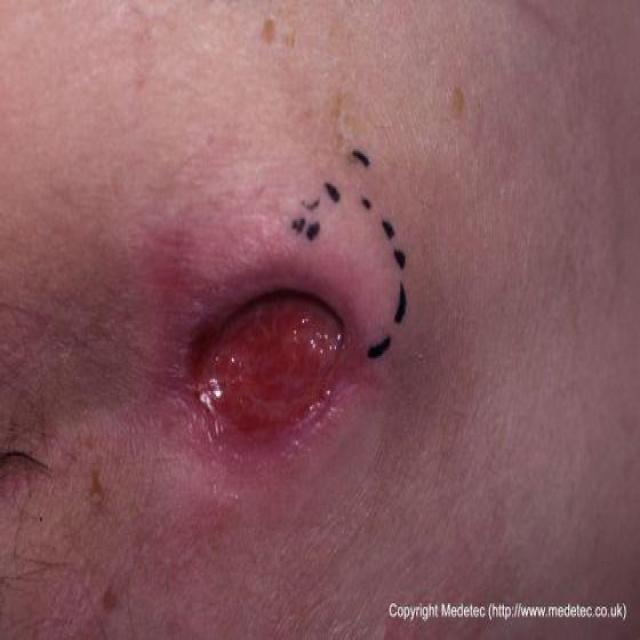stage-3: (195, 293, 344, 429)
